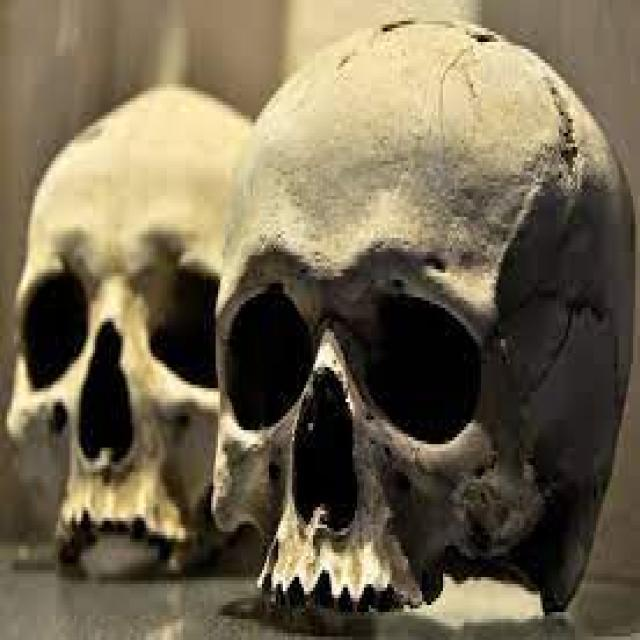skull: (210, 0, 640, 640)
